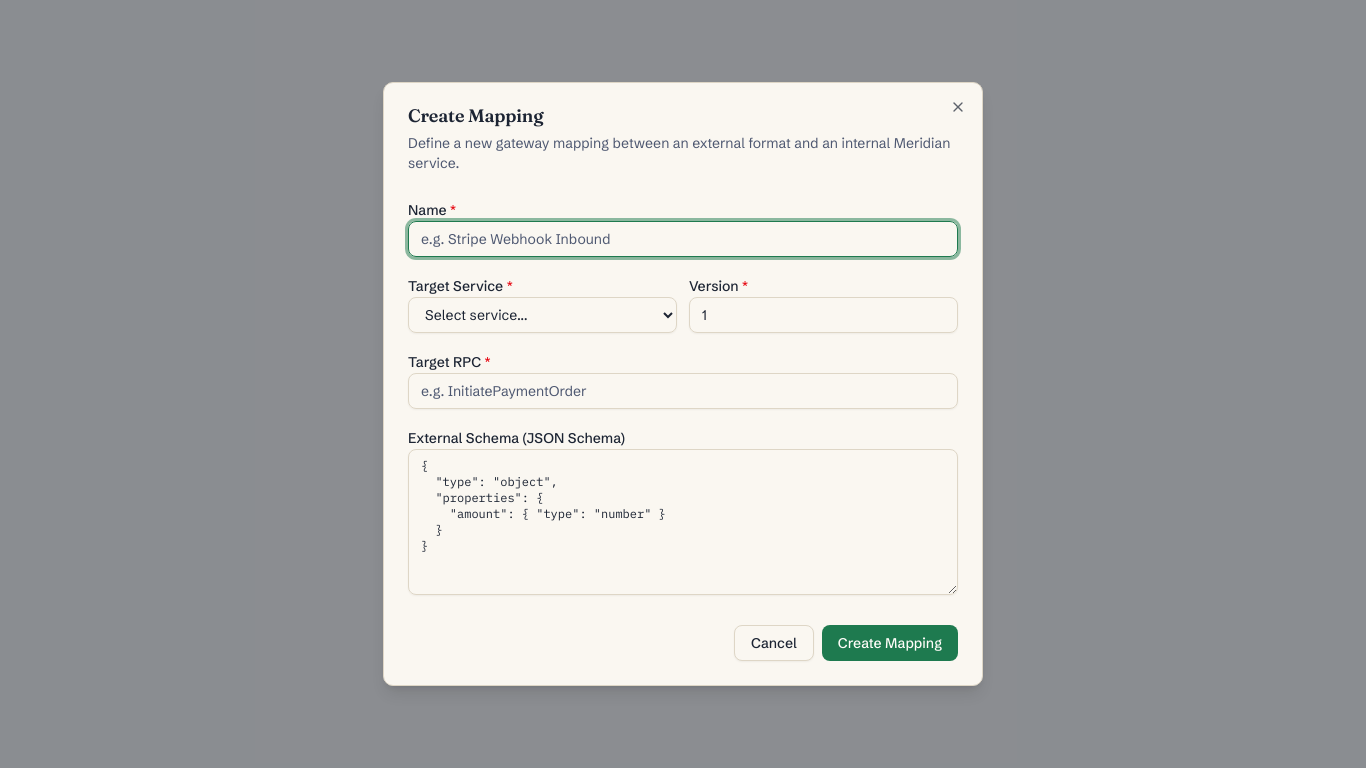
Test: CreateMappingDialog - validation › shows validation error for empty name
Click the button "Create Mapping" at (890, 643), box [822,625,958,661]
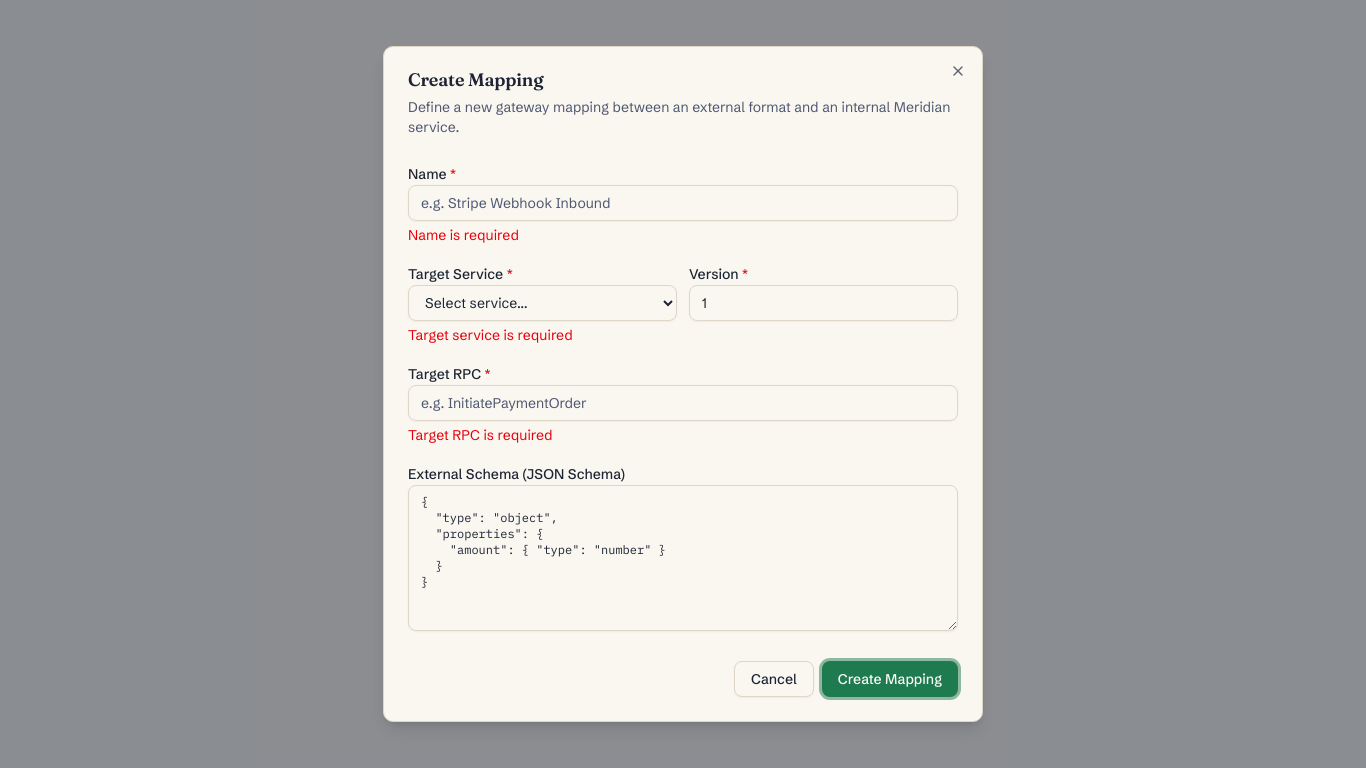
Now the text "Name is required" is shown, box [408,226,519,244]
